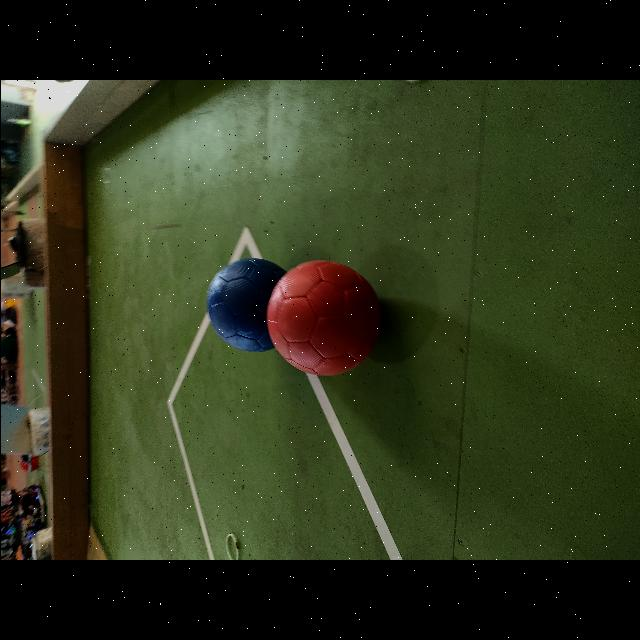B: (206, 258, 284, 352)
R: (265, 260, 379, 376)
